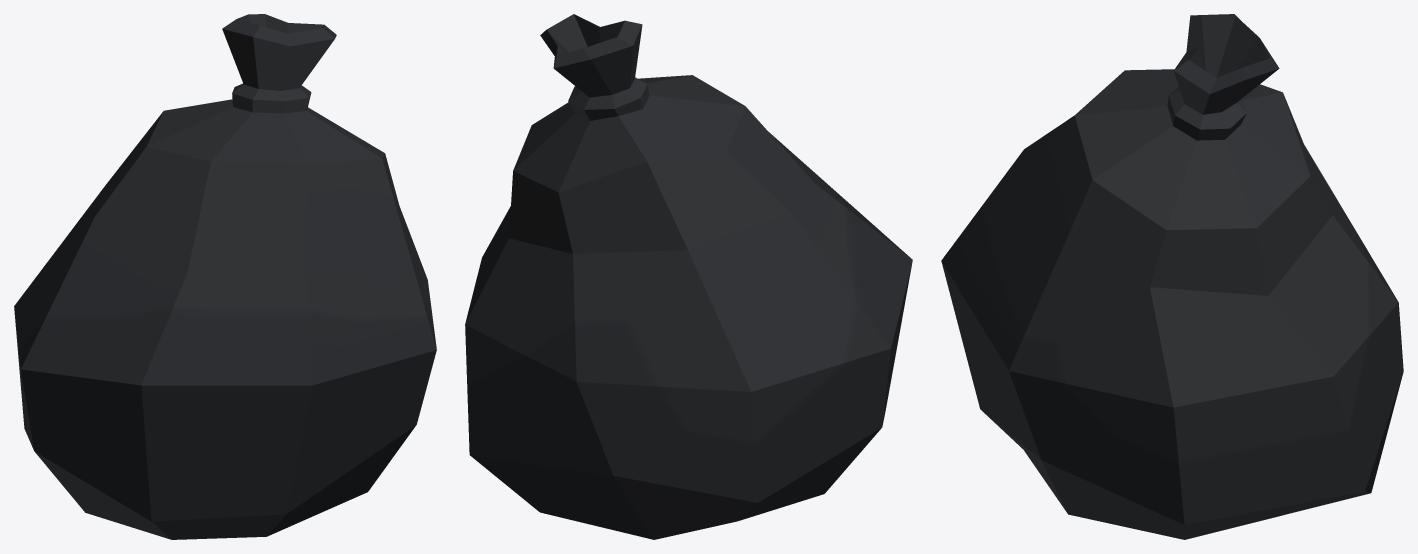
The model's file is SM_Prop_TrashBag_06.obj.
The picture shows the model from 3 angles, left to right: view 1: azimuth 30°, elevation 25°; view 2: azimuth 150°, elevation 25°; view 3: azimuth 270°, elevation 25°; orthographic projection. The views are drawn at different scales.
Parts seen in each view (by area): view 1: SM_Prop_TrashBag_06_0; view 2: SM_Prop_TrashBag_06_0; view 3: SM_Prop_TrashBag_06_0.
Part boxes in pixels (x1,y1,x2,y2): SM_Prop_TrashBag_06_0: [14, 14, 436, 539]; SM_Prop_TrashBag_06_0: [465, 14, 912, 539]; SM_Prop_TrashBag_06_0: [941, 14, 1403, 539].
Bounding box in the file's own units: 0.7568 × 0.7703 × 0.6831.
1 material, 1 textured.
